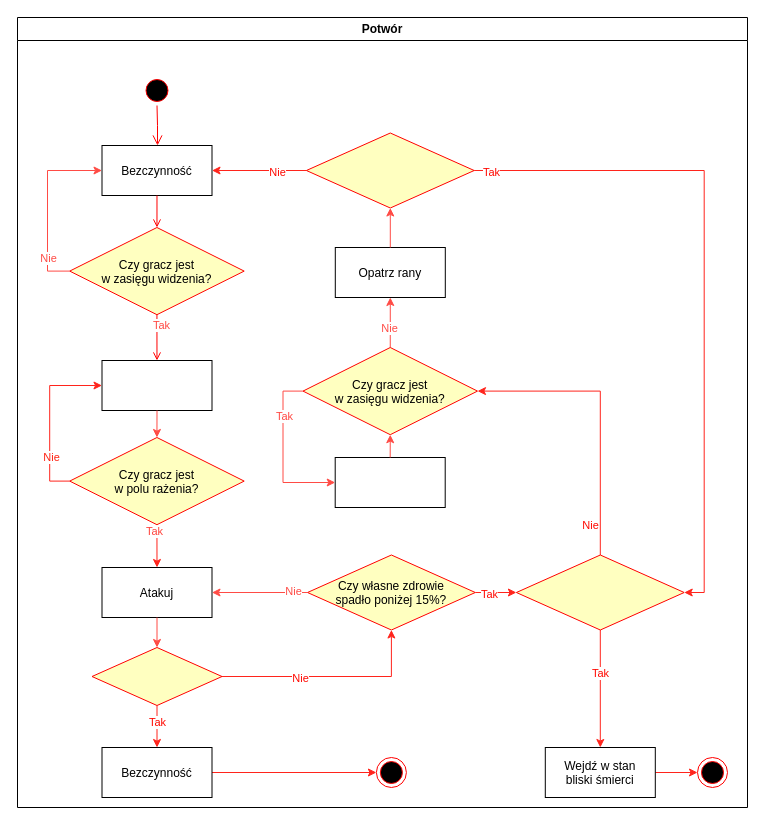
Image size: 765x825. Some labels were removed from this diagram. The centre of each missing label's shape, as x and y in pixels:
Czy gracz umarł?: [156,676]
Czy poziom zdrowia jest poniżej 15%?: [389,170]
Czy własne zdrowie spadło poniżej 1%?: [599,592]
Podążaj w kierunku gracza: [156,385]
Uciekaj: [389,482]
